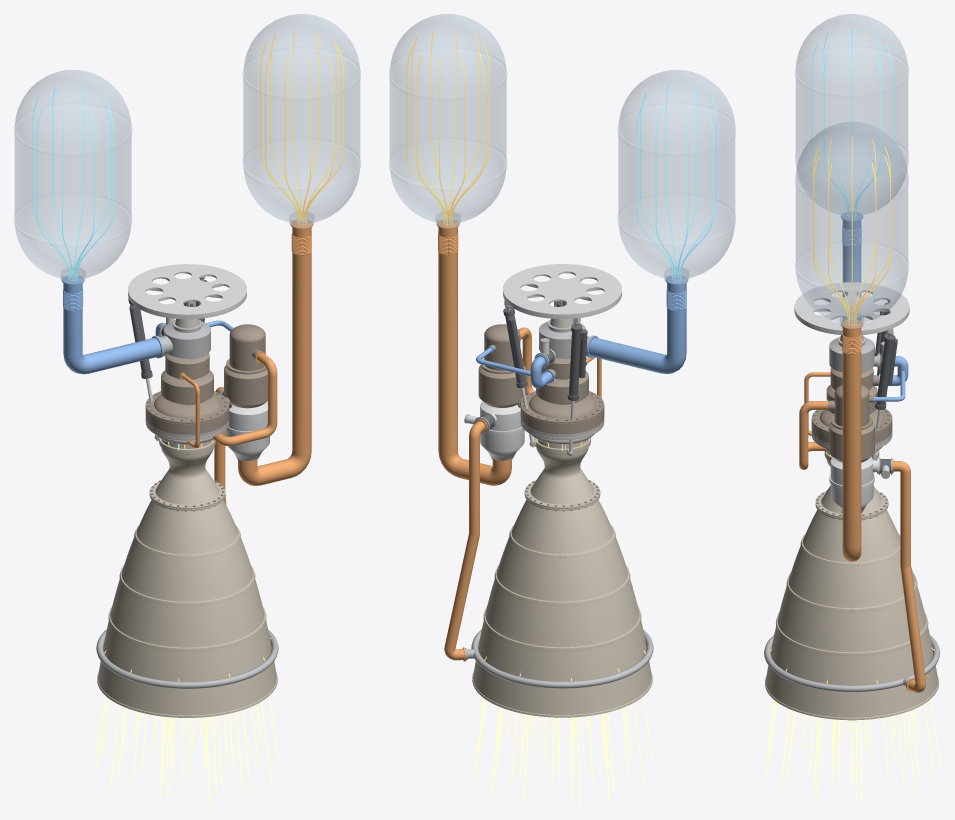
The model's file is full-flow_d.glb.
The picture shows the model from 3 angles, left to right: view 1: azimuth 30°, elevation 25°; view 2: azimuth 150°, elevation 25°; view 3: azimuth 270°, elevation 25°; orthographic projection. The views are drawn at different scales.
Parts seen in each view (by area): view 1: FF_Nozzle, FF_TankFuel, FF_TankOxidizer, FF_FeedLineFuel, FF_ThrustMount, FF_ChamberJacket, FF_FeedLineOxidizer, FF_FLOW_HotGas, FF_FLOW_Fuel, FF_FLOW_Oxidizer, FF_FuelManifold, FF_PumpFuel (+9 smaller); view 2: FF_Nozzle, FF_TankFuel, FF_TankOxidizer, FF_FeedLineFuel, FF_ThrustMount, FF_ChamberJacket, FF_FeedLineOxidizer, FF_FLOW_HotGas, FF_FLOW_Fuel, FF_CoolantFeedLine, FF_FLOW_Oxidizer, FF_PumpFuel (+9 smaller); view 3: FF_Nozzle, FF_TankFuel, FF_TankOxidizer, FF_FeedLineFuel, FF_ThrustMount, FF_FLOW_HotGas, FF_CoolantFeedLine, FF_FLOW_Fuel, FF_FuelManifold, FF_FLOW_Oxidizer, FF_FeedLineOxidizer, FF_PumpFuel (+10 smaller).
Part boxes in pixels (left/top/right/bottom): FF_Nozzle: left=97, top=494, right=277, bottom=717; FF_TankFuel: left=243, top=14, right=360, bottom=228; FF_TankOxidizer: left=14, top=70, right=131, bottom=284; FF_FeedLineFuel: left=236, top=219, right=313, bottom=485; FF_ThrustMount: left=128, top=264, right=246, bottom=319; FF_ChamberJacket: left=145, top=421, right=229, bottom=509; FF_FeedLineOxidizer: left=61, top=275, right=162, bottom=374; FF_FLOW_HotGas: left=95, top=695, right=279, bottom=805; FF_FLOW_Fuel: left=104, top=29, right=343, bottom=681; FF_FLOW_Oxidizer: left=32, top=85, right=113, bottom=280; FF_FuelManifold: left=96, top=630, right=278, bottom=688; FF_PumpFuel: left=225, top=401, right=269, bottom=460; FF_Nozzle: left=472, top=494, right=652, bottom=717; FF_TankFuel: left=389, top=14, right=506, bottom=228; FF_TankOxidizer: left=618, top=70, right=735, bottom=284; FF_FeedLineFuel: left=437, top=219, right=513, bottom=485; FF_ThrustMount: left=503, top=264, right=621, bottom=322; FF_ChamberJacket: left=520, top=420, right=604, bottom=508; FF_FeedLineOxidizer: left=587, top=274, right=687, bottom=374; FF_FLOW_HotGas: left=473, top=696, right=652, bottom=805; FF_FLOW_Fuel: left=406, top=29, right=645, bottom=681; FF_CoolantFeedLine: left=444, top=419, right=487, bottom=661; FF_FLOW_Oxidizer: left=636, top=85, right=717, bottom=280; FF_PumpFuel: left=480, top=401, right=524, bottom=460; FF_Nozzle: left=765, top=504, right=939, bottom=720; FF_TankFuel: left=795, top=122, right=908, bottom=328; FF_TankOxidizer: left=795, top=14, right=908, bottom=220; FF_FeedLineFuel: left=841, top=319, right=862, bottom=561; FF_ThrustMount: left=794, top=282, right=909, bottom=334; FF_FLOW_HotGas: left=765, top=698, right=940, bottom=805; FF_CoolantFeedLine: left=892, top=459, right=925, bottom=692; FF_FLOW_Fuel: left=770, top=136, right=934, bottom=683; FF_FuelManifold: left=764, top=635, right=939, bottom=691; FF_FLOW_Oxidizer: left=811, top=29, right=892, bottom=217; FF_FeedLineOxidizer: left=841, top=212, right=862, bottom=320; FF_PumpFuel: left=829, top=457, right=878, bottom=512.
Bounding box in the file's own units: 2.75 × 5.72 × 1.32.
